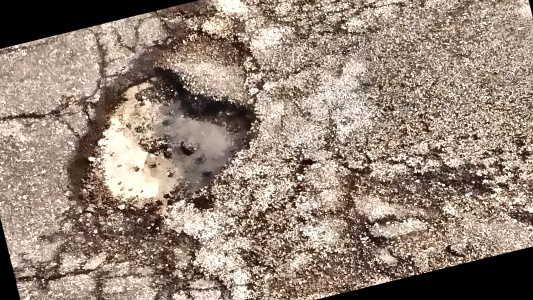pothole: (38, 34, 285, 244), (528, 189, 533, 244)
